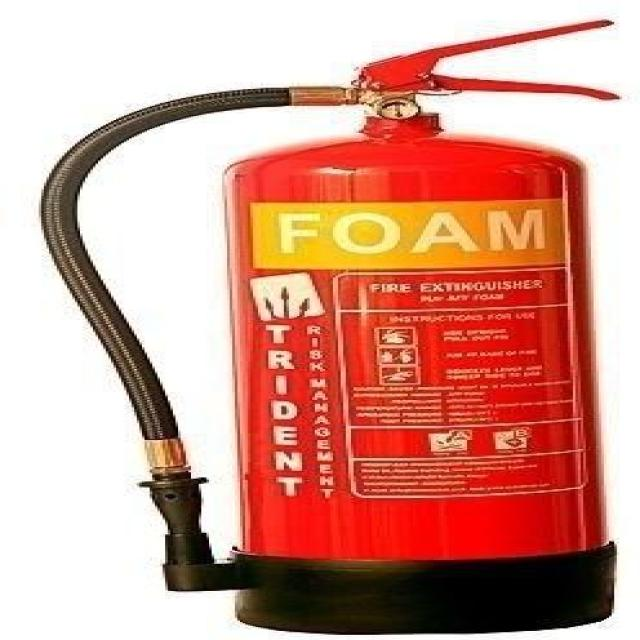fire_extinguisher: (27, 16, 623, 638)
